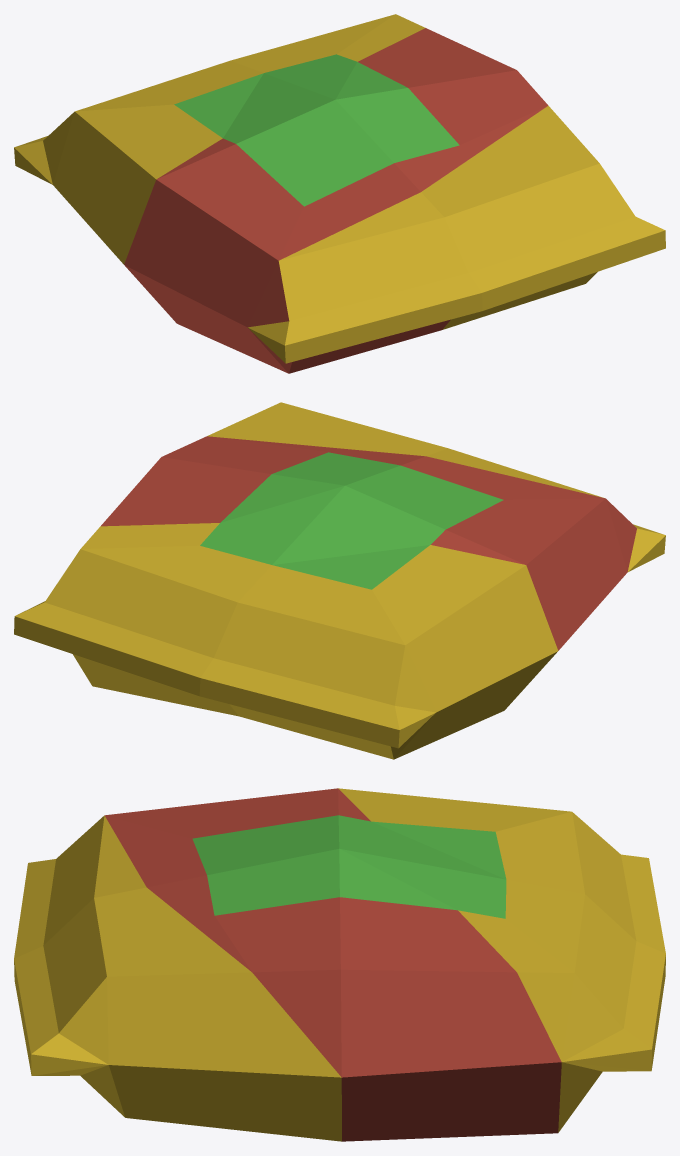
Rendered from SM_Prop_Snack_03.fbx.
The picture shows the model from 3 angles, top to bottom: view 1: azimuth 30°, elevation 25°; view 2: azimuth 150°, elevation 25°; view 3: azimuth 270°, elevation 25°; orthographic projection. The views are drawn at different scales.
Parts seen in each view (by area): view 1: SM_Prop_Snack_03; view 2: SM_Prop_Snack_03; view 3: SM_Prop_Snack_03.
Part boxes in pixels (box(x1,y1,x2,y2)): SM_Prop_Snack_03: box(14, 14, 665, 373); SM_Prop_Snack_03: box(14, 402, 665, 759); SM_Prop_Snack_03: box(14, 788, 665, 1141).
Bounding box in the file's own units: 19.18 × 8.54 × 21.53.
